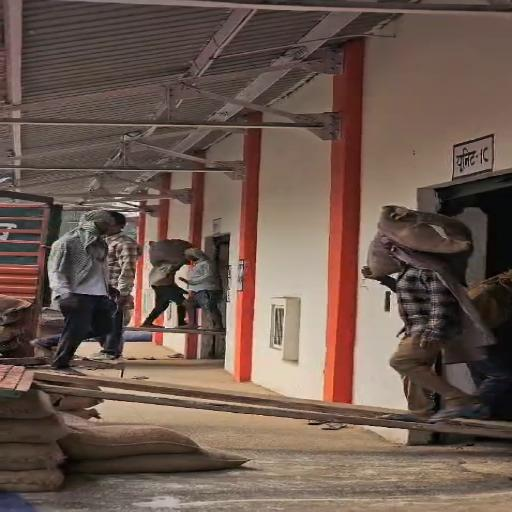bag: (364, 194, 474, 278)
